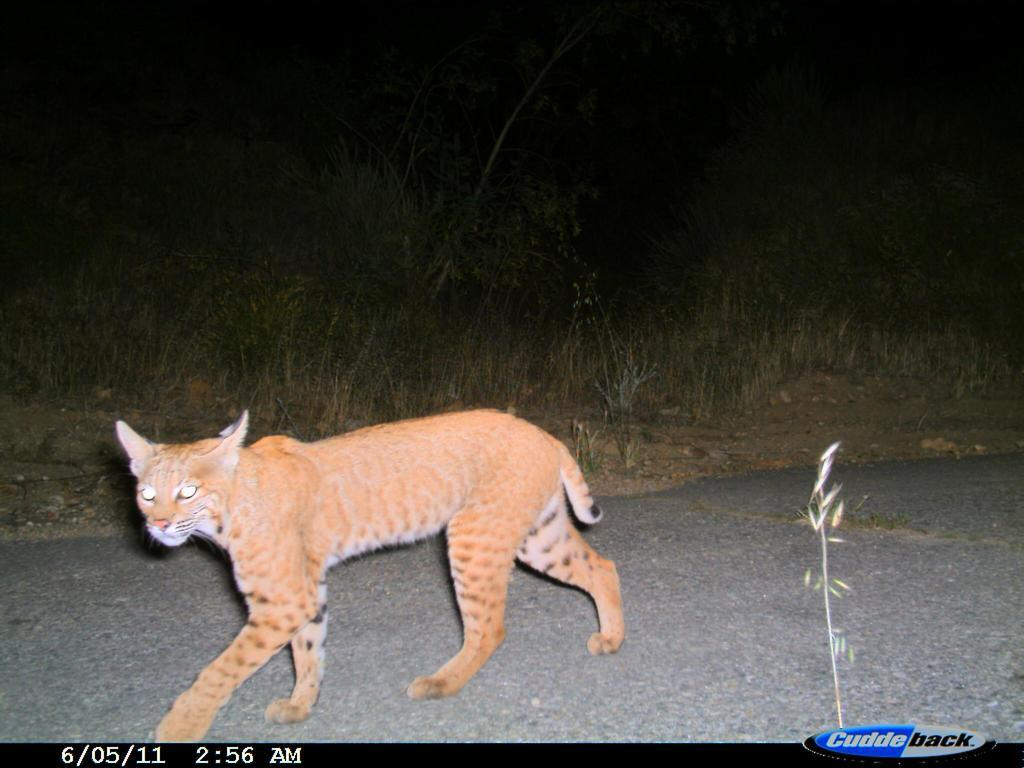bobcat: (98, 401, 643, 731)
